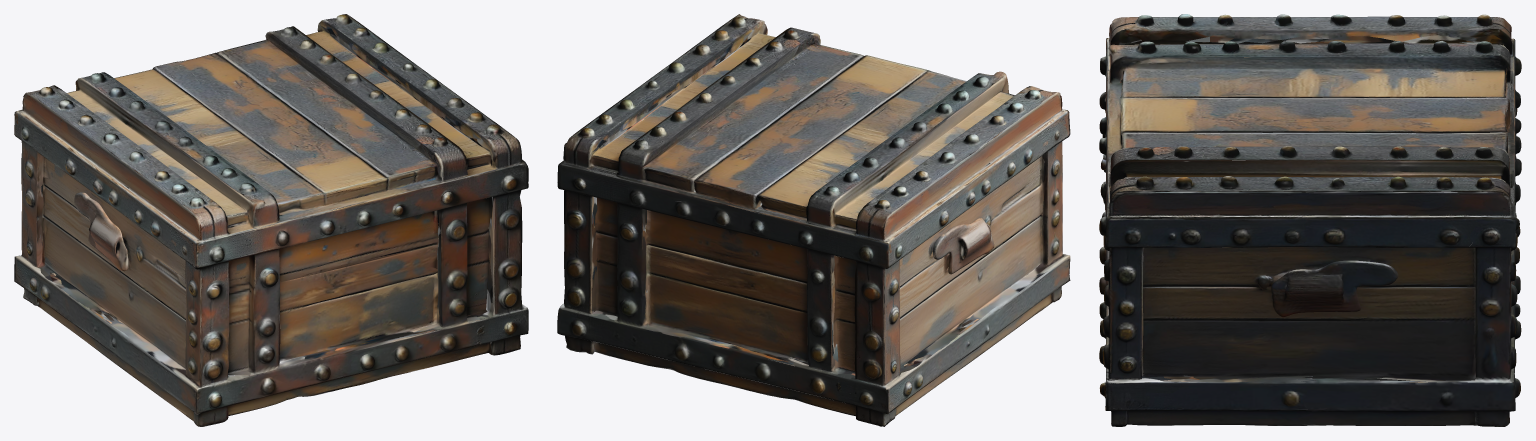
3 views of the same model, side by side, from view 1: azimuth 30°, elevation 25°; view 2: azimuth 150°, elevation 25°; view 3: azimuth 270°, elevation 25° (orthographic). The views are drawn at different scales.
Visible parts, largest first — view 1: geometry_0; view 2: geometry_0; view 3: geometry_0.
Part boxes in pixels (x1,y1,x2,y2): geometry_0: [14, 14, 528, 426]; geometry_0: [557, 14, 1070, 426]; geometry_0: [1099, 14, 1521, 426].
Bounding box in the file's own units: 1.88 × 1.16 × 1.81.
1 material, 1 textured.
